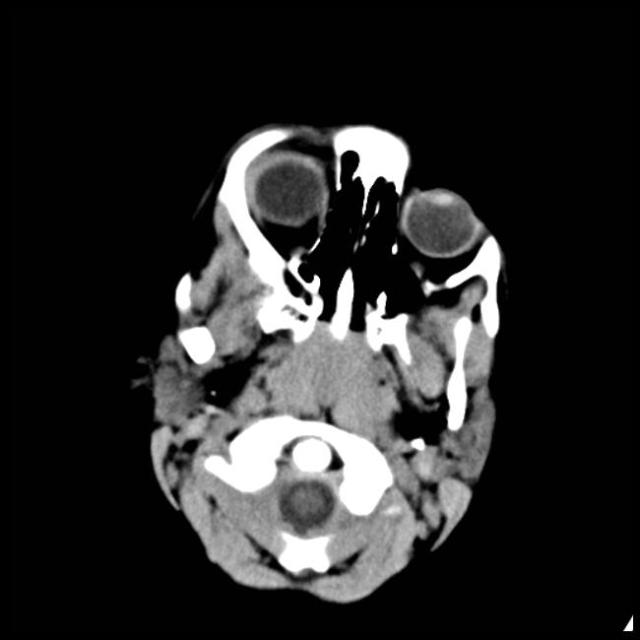lesion: (135, 118, 513, 608)
